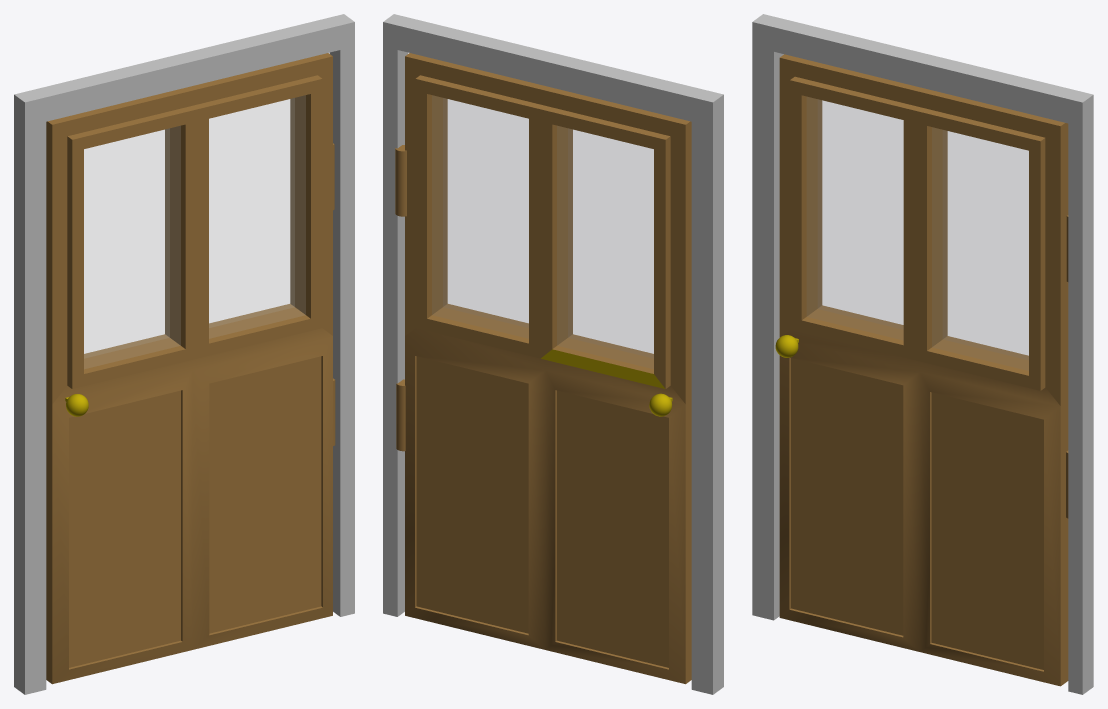
File: kitchenDoor.fbx
The picture shows the model from 3 angles, left to right: view 1: azimuth 30°, elevation 25°; view 2: azimuth 150°, elevation 25°; view 3: azimuth 330°, elevation 25°; orthographic projection.
Parts seen in each view (by area): view 1: polySurface5, polySurface2; view 2: polySurface5, polySurface2; view 3: polySurface5, polySurface2.
Part boxes in pixels (<box>): polySurface5: <box>46,53,335,684</box>; polySurface2: <box>14,14,354,694</box>; polySurface5: <box>395,53,691,684</box>; polySurface2: <box>383,14,723,694</box>; polySurface5: <box>775,54,1068,686</box>; polySurface2: <box>752,14,1093,694</box>.
Bounding box in the file's own units: 1.63 × 2.8 × 0.3426.
